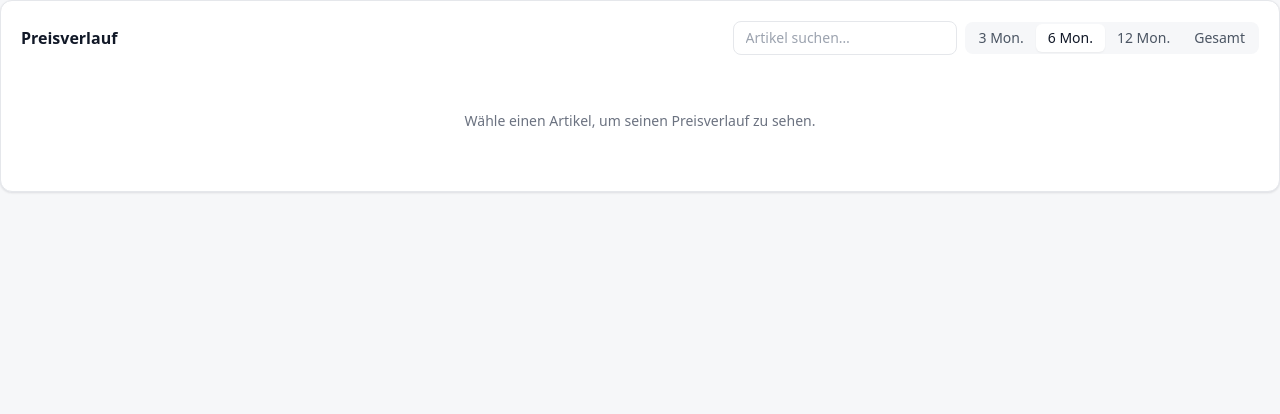
Test case: PriceHistory › renders a line chart with min/max/avg once a product is selected
Expected: the text "Wähle einen Artikel, um seinen Preisverlauf zu sehen." is shown, [464, 111, 815, 130]
Type "banan" into the dropdown labelled "Artikel". click: (844, 38)
box: [732, 21, 956, 55]
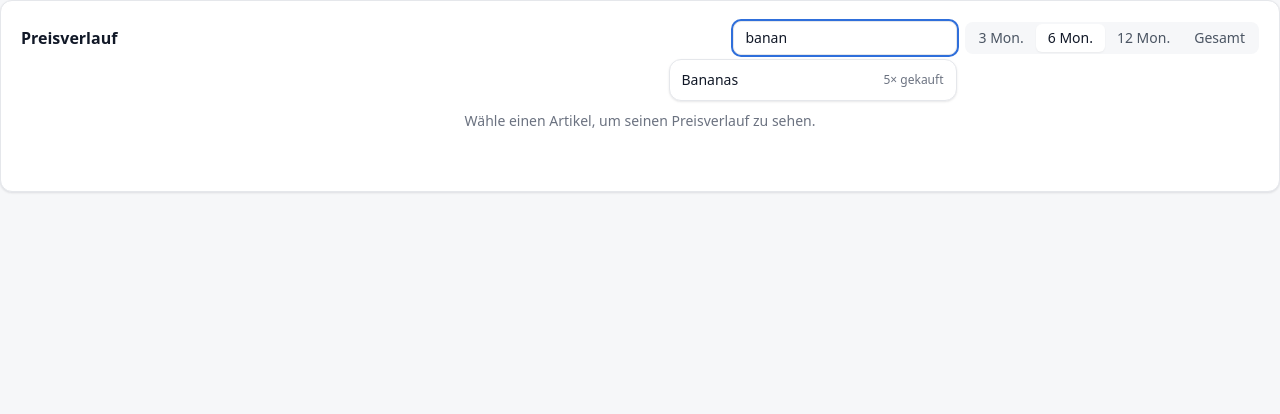
Click the option "Bananas 5× gekauft". click: click(710, 80)
box: [682, 70, 944, 89]
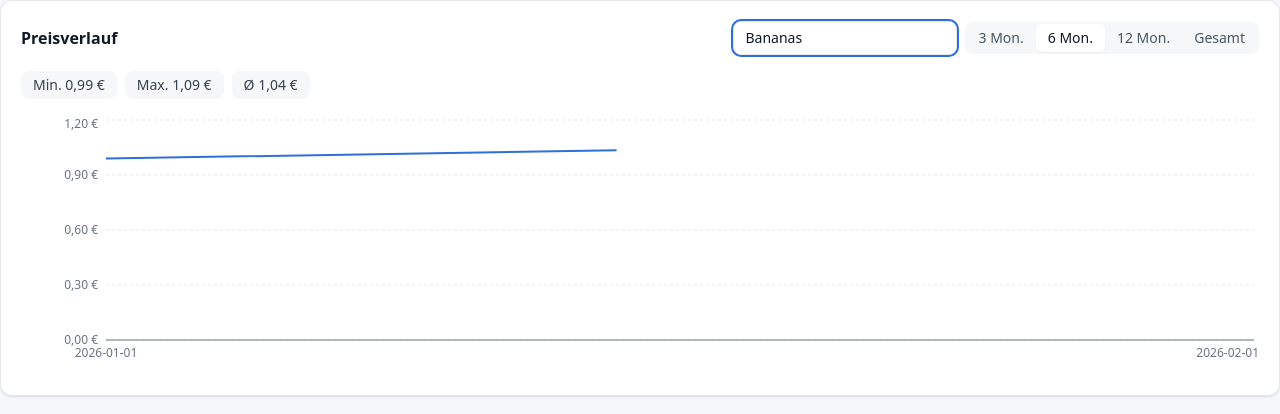
Now the element with test id "price-history-chart" is shown
Now the text "Min. 0,99 €" is shown, box [21, 71, 117, 99]
Now the text "Max. 1,09 €" is shown, box [125, 71, 224, 99]
